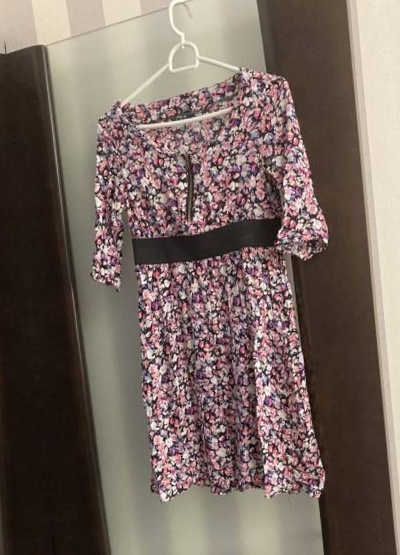Dress: (60, 66, 375, 515), (0, 103, 0, 552)
